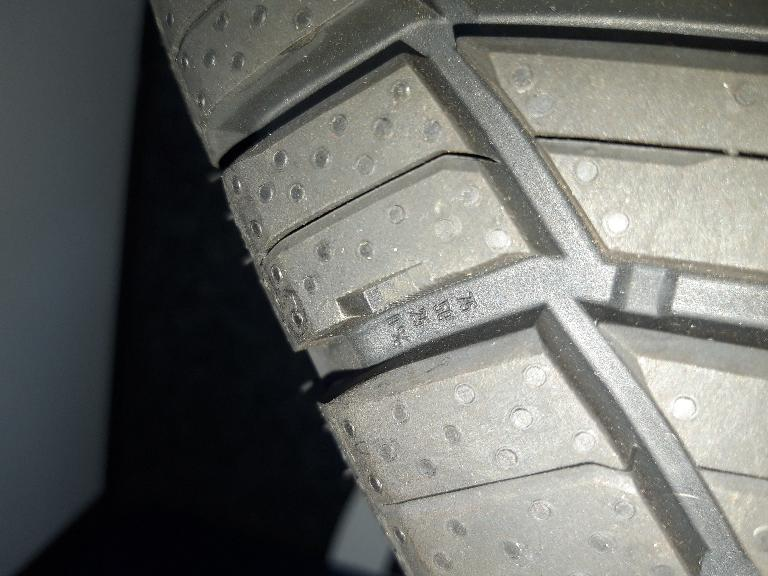temoin:100: (332, 256, 484, 326)
